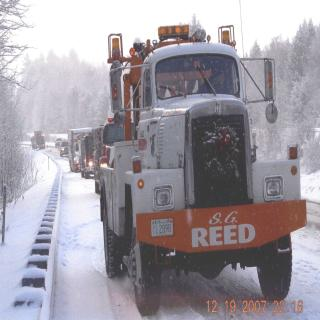Towing_truck: (97, 22, 307, 316)
